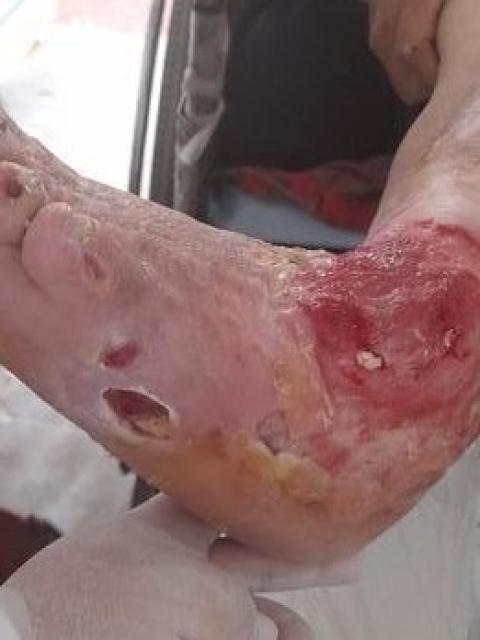wound: (254, 219, 480, 495), (97, 384, 175, 441), (97, 333, 142, 374), (81, 248, 116, 291)
